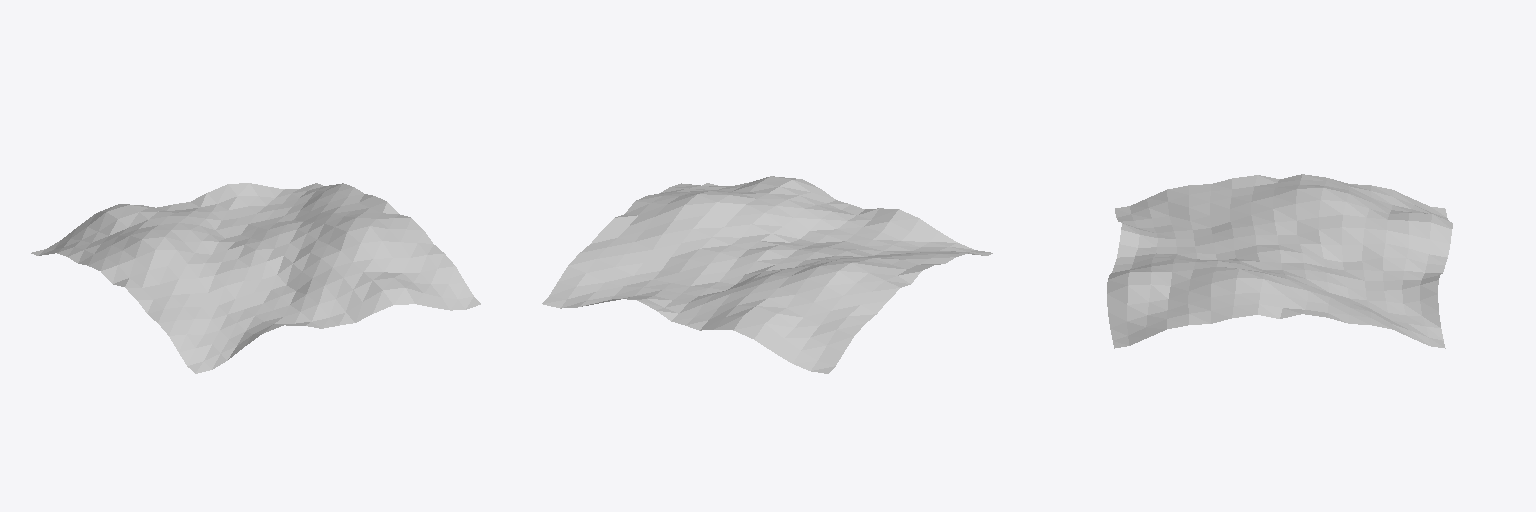
Rendered from water_000174.obj.
The picture shows the model from 3 angles: view 1: azimuth 30°, elevation 25°; view 2: azimuth 150°, elevation 25°; view 3: azimuth 270°, elevation 25°; orthographic projection.
Parts seen in each view (by area): view 1: Plan.003_Plan.001; view 2: Plan.003_Plan.001; view 3: Plan.003_Plan.001.
Boxes of the visible parts, x1=… form: Plan.003_Plan.001: x1=31, y1=183, x2=480, y2=373; Plan.003_Plan.001: x1=542, y1=176, x2=992, y2=373; Plan.003_Plan.001: x1=1107, y1=174, x2=1452, y2=348.
Bounding box in the file's own units: 60678 × 9401 × 63115.